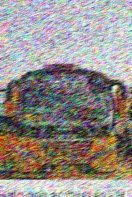bus: (7, 65, 123, 173)
